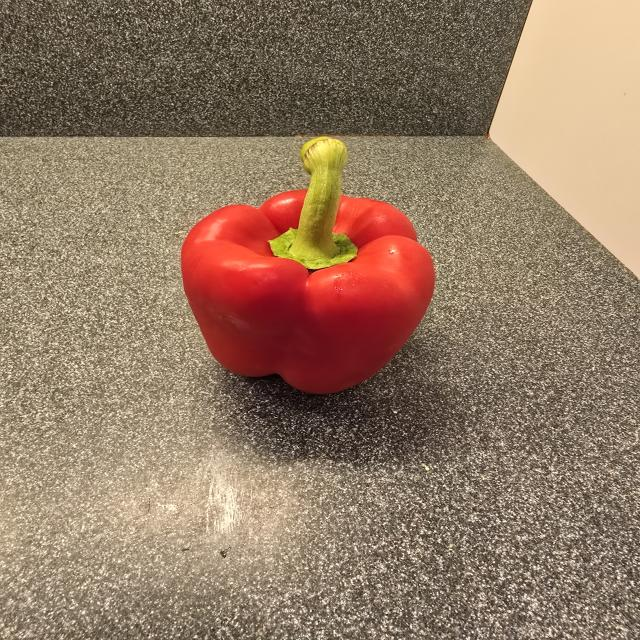Bell Pepper: (172, 129, 447, 406)
